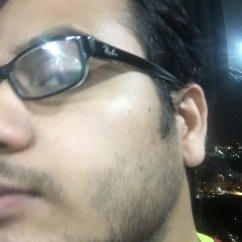glasses: (5, 37, 176, 95)
